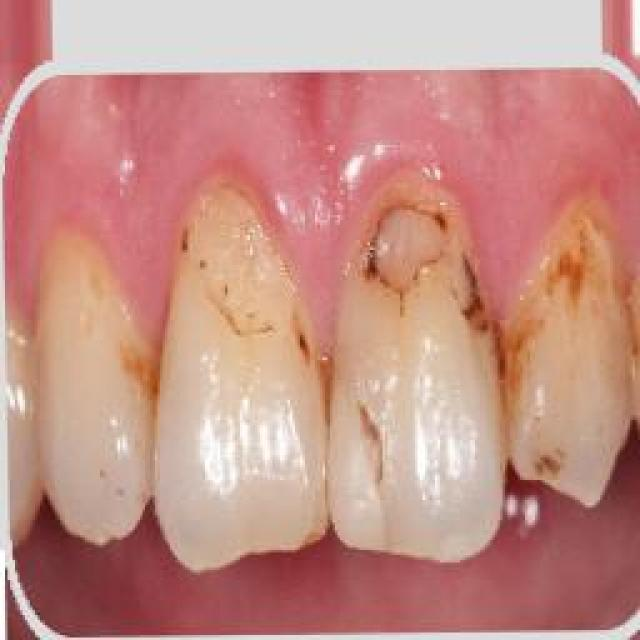caries: (185, 218, 293, 363), (365, 200, 433, 295), (455, 268, 495, 361), (348, 412, 391, 490)
